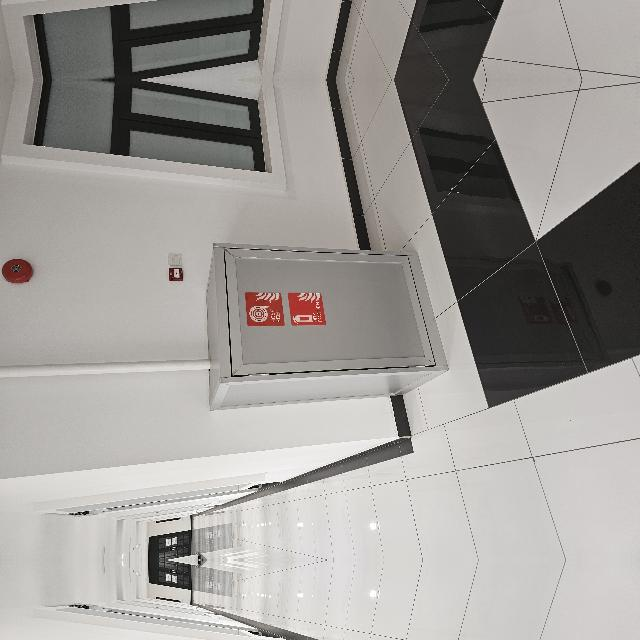obstacle: (148, 285, 318, 529), (148, 591, 317, 640)
